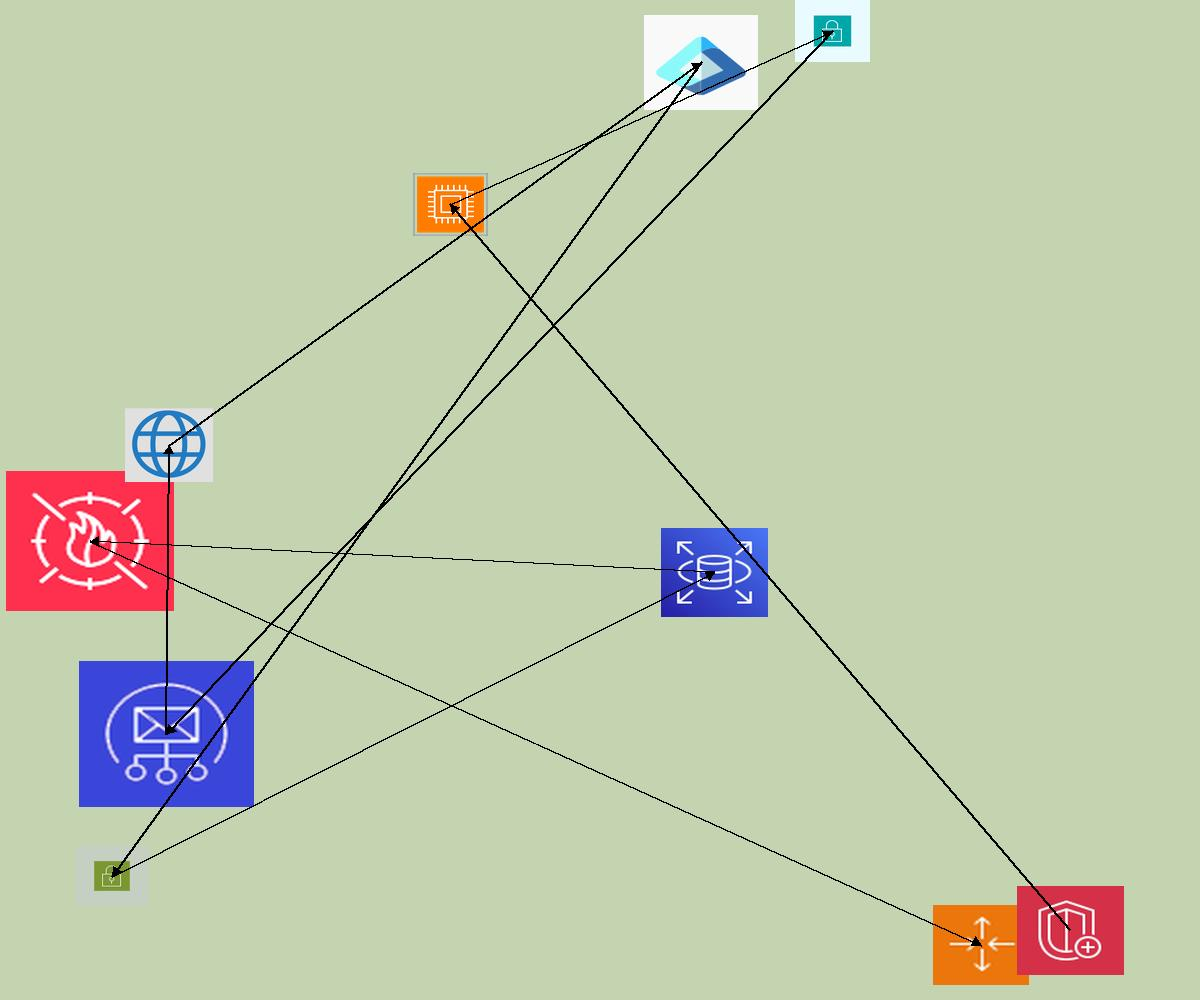AWS-Category_Compute: (413, 173, 488, 236)
AWS-Private-subnet: (795, 0, 870, 62)
AWS-Public-subnet: (76, 846, 148, 906)
AWS-RDS: (661, 528, 768, 617)
AWS-Scaling-group: (933, 905, 1029, 985)
AWS-Shield: (1017, 886, 1124, 975)
AWS-Simple-Email-Service: (79, 661, 254, 807)
AWS-WAF: (6, 471, 174, 611)
Azure_http: (125, 408, 213, 482)
Azure_microsoft_entra: (644, 15, 758, 110)
